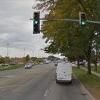Traffic light: (23, 1, 45, 43)
